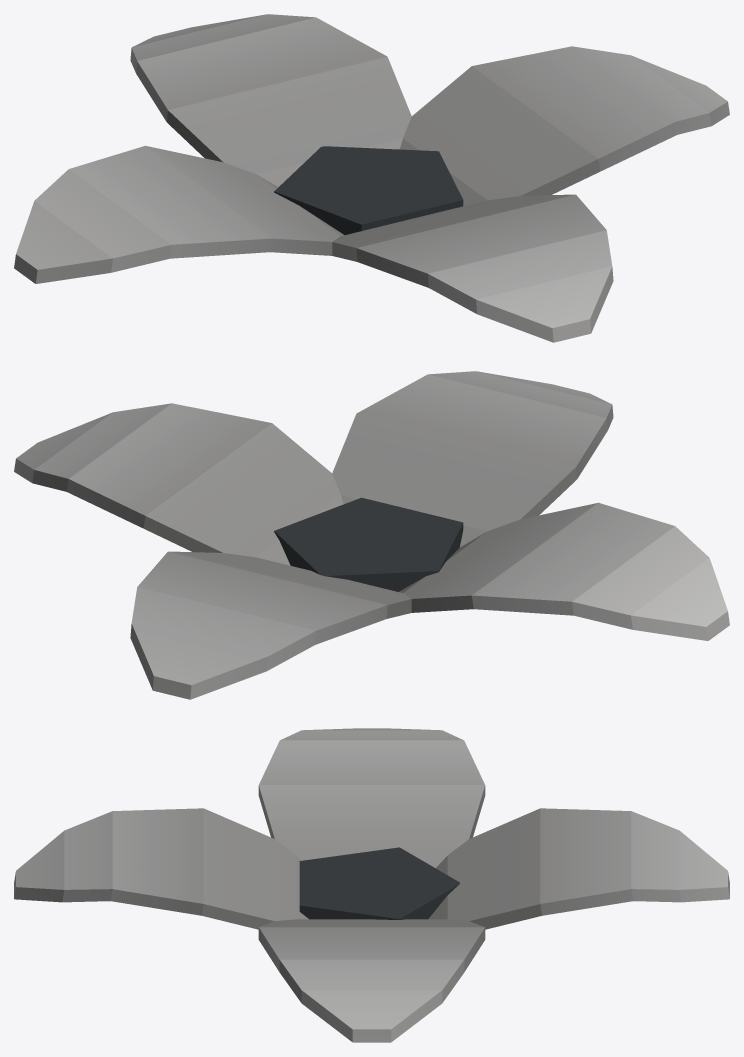
File: Flower_10.fbx
The picture shows the model from 3 angles, top to bottom: view 1: azimuth 30°, elevation 25°; view 2: azimuth 150°, elevation 25°; view 3: azimuth 270°, elevation 25°; orthographic projection. The views are drawn at different scales.
Visible parts, largest first — view 1: Flower_10; view 2: Flower_10; view 3: Flower_10.
Boxes of the visible parts, x1,y1,x2,y2 form: Flower_10: [14, 14, 729, 342]; Flower_10: [14, 371, 729, 699]; Flower_10: [14, 728, 729, 1042].
Size of the model in its own units: 0.2997 by 0.0355 by 0.2997.
